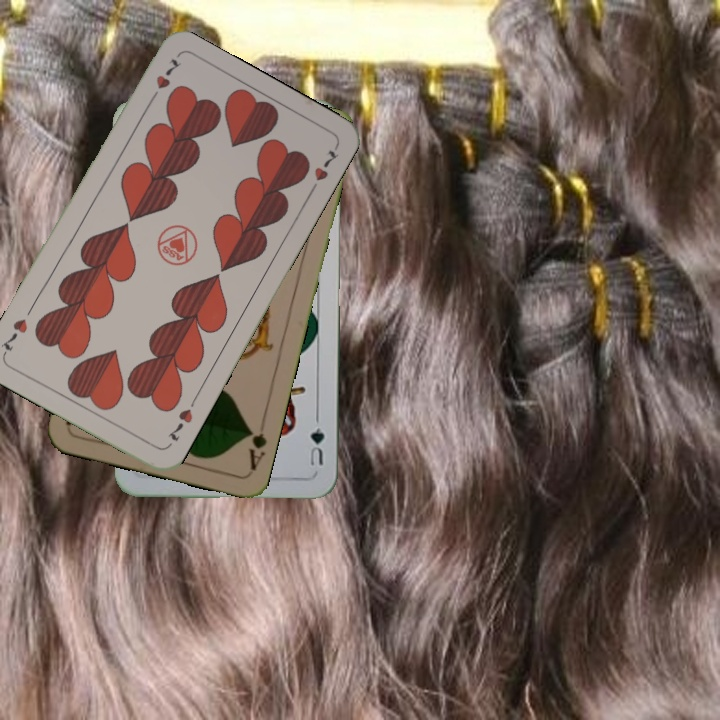GA: (243, 424, 270, 474)
GU: (306, 413, 327, 468)
H7: (144, 54, 183, 106), (163, 395, 199, 445)
